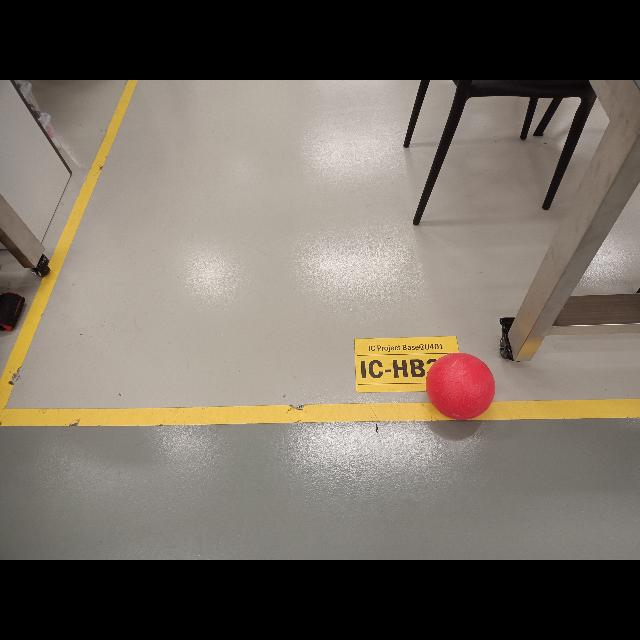R: (425, 352, 495, 420)
